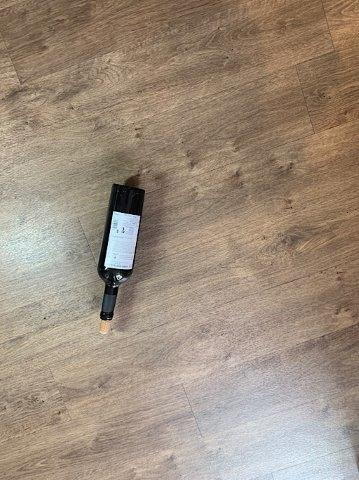botolkaca: (99, 182, 146, 320)
